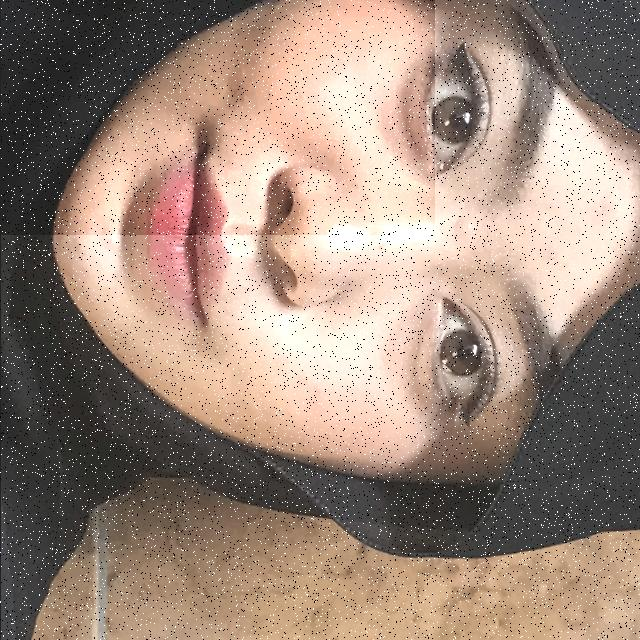ibu: (0, 0, 434, 235)
